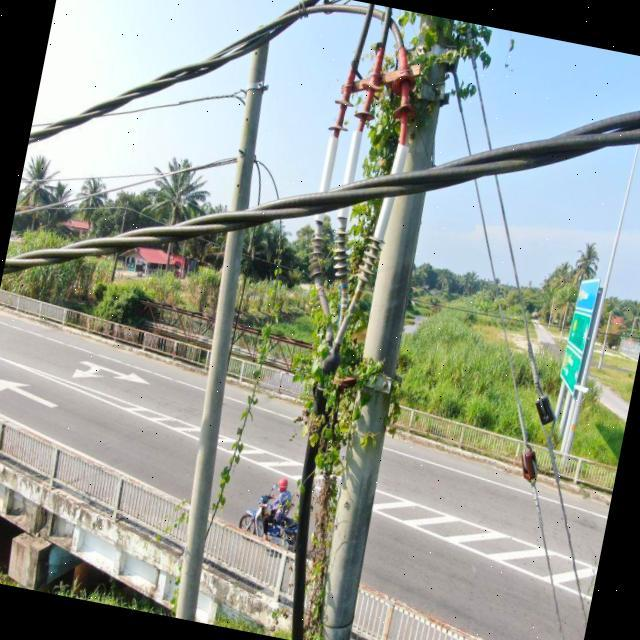critical vegetation: (240, 3, 497, 640), (154, 216, 298, 622)
